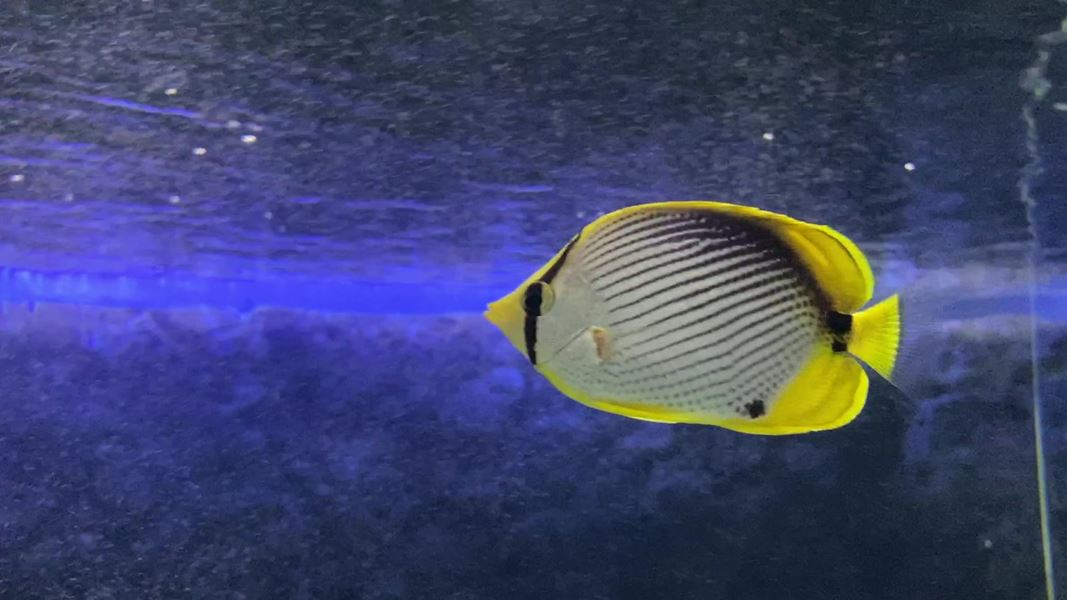Black-backed butterflyfish: (471, 186, 953, 452)
